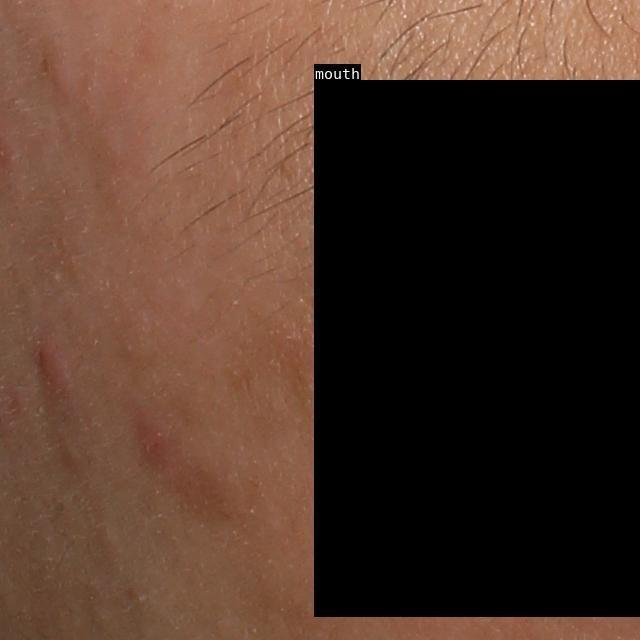papule: (25, 326, 71, 389), (129, 414, 174, 464)
